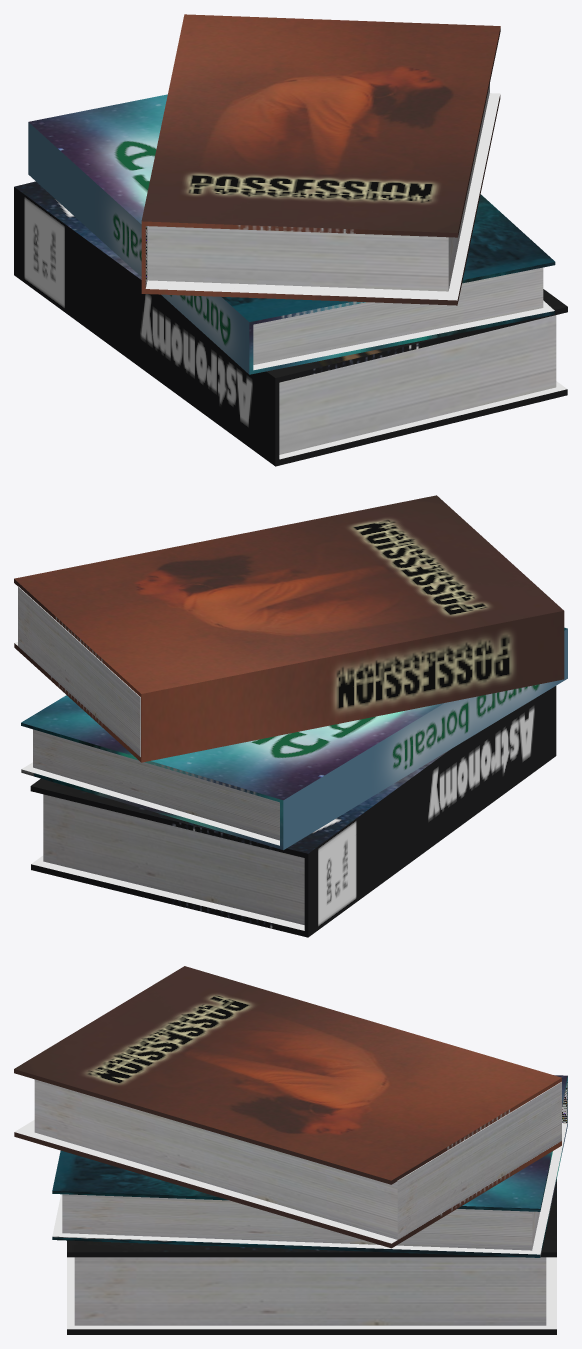
Rendered from books 9.fbx.
3 renders of one model, top to bottom at view 1: azimuth 30°, elevation 25°; view 2: azimuth 150°, elevation 25°; view 3: azimuth 270°, elevation 25°, orthographic. The views are drawn at different scales.
Visible parts, largest first — view 1: Books 9; view 2: Books 9; view 3: Books 9.
Boxes of the visible parts, x1,y1,x2,y2 form: Books 9: (14, 14, 567, 466); Books 9: (14, 495, 567, 937); Books 9: (14, 966, 567, 1334).
Bounding box in the file's own units: 26.55 × 11.7 × 28.95.
1 material, 1 textured.
